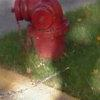Hydrant: (8, 2, 73, 67)
